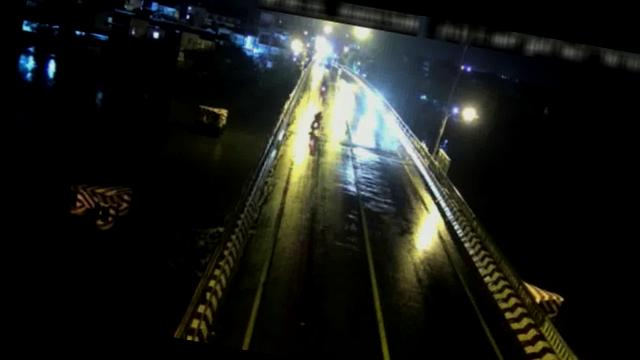Bike: (307, 104, 326, 137)
